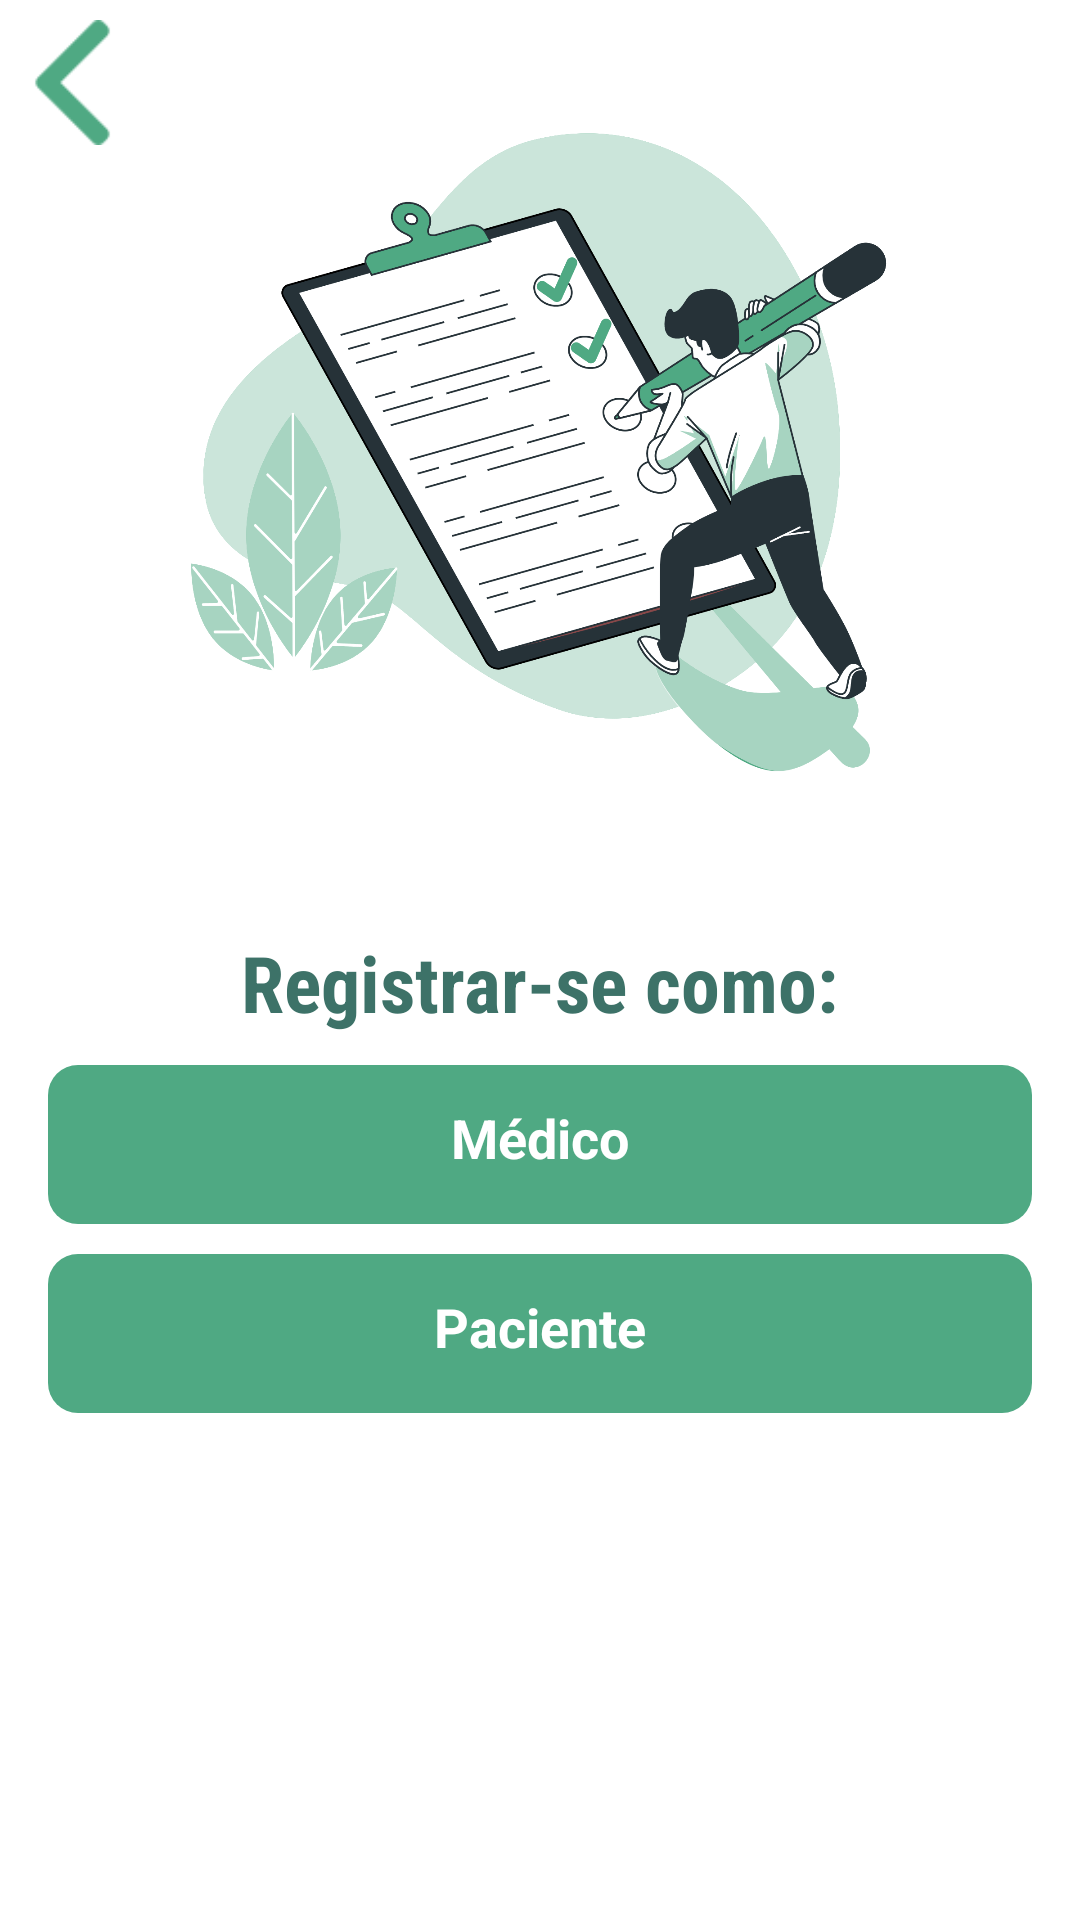

Named icons in this screenshot (1080px×1920px) and their centers, point (x, y):
setavoltar: point (72, 82)
